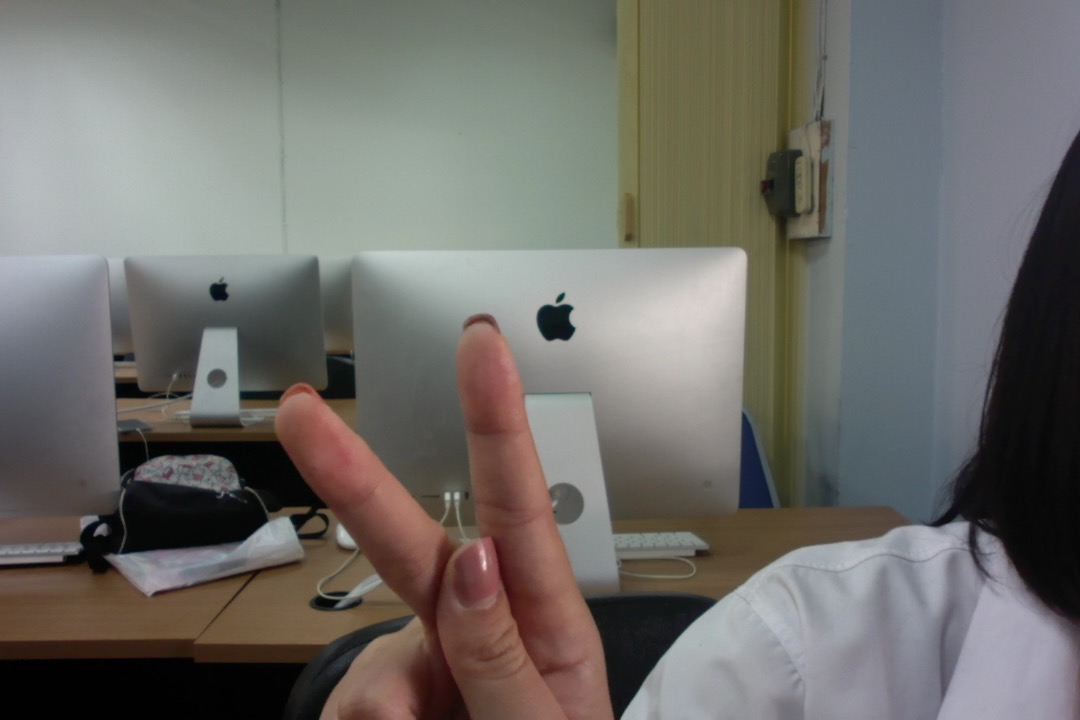ko: (243, 293, 618, 719)
